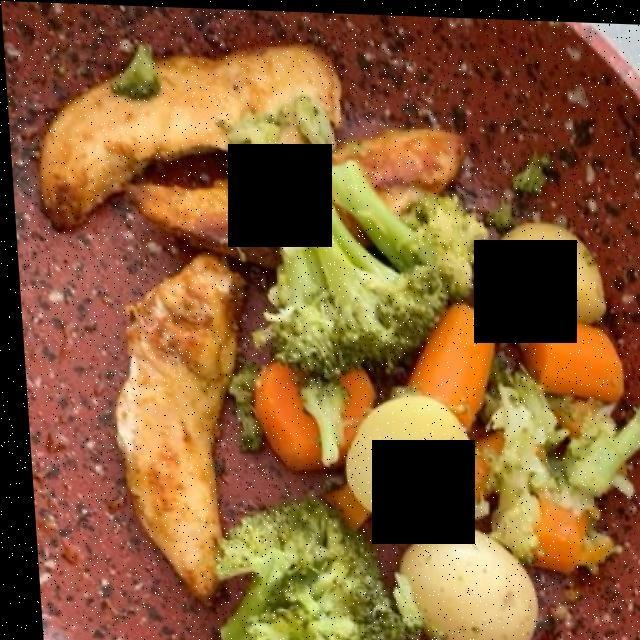carrots: (259, 307, 612, 562)
potatoes: (339, 224, 607, 640)
